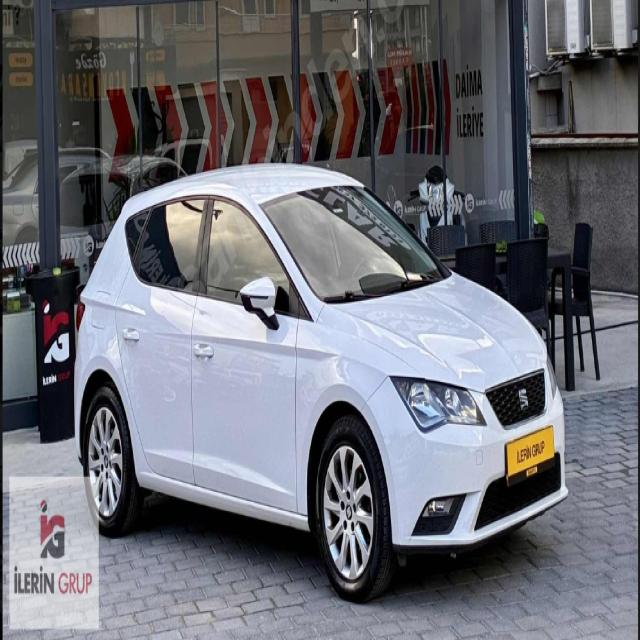seat: (516, 383, 530, 413)
